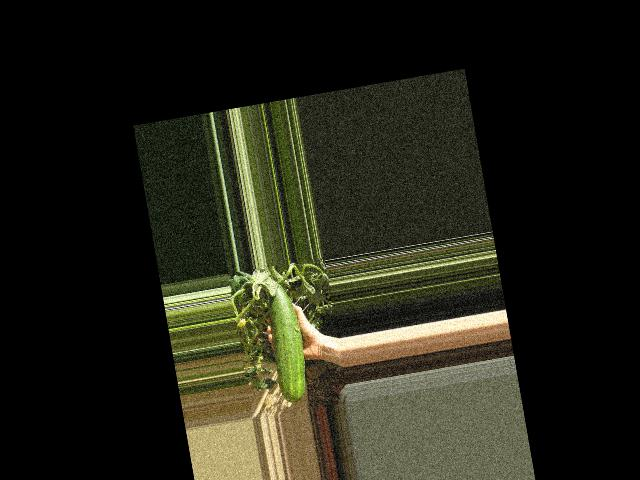cucumber: (261, 279, 312, 405)
